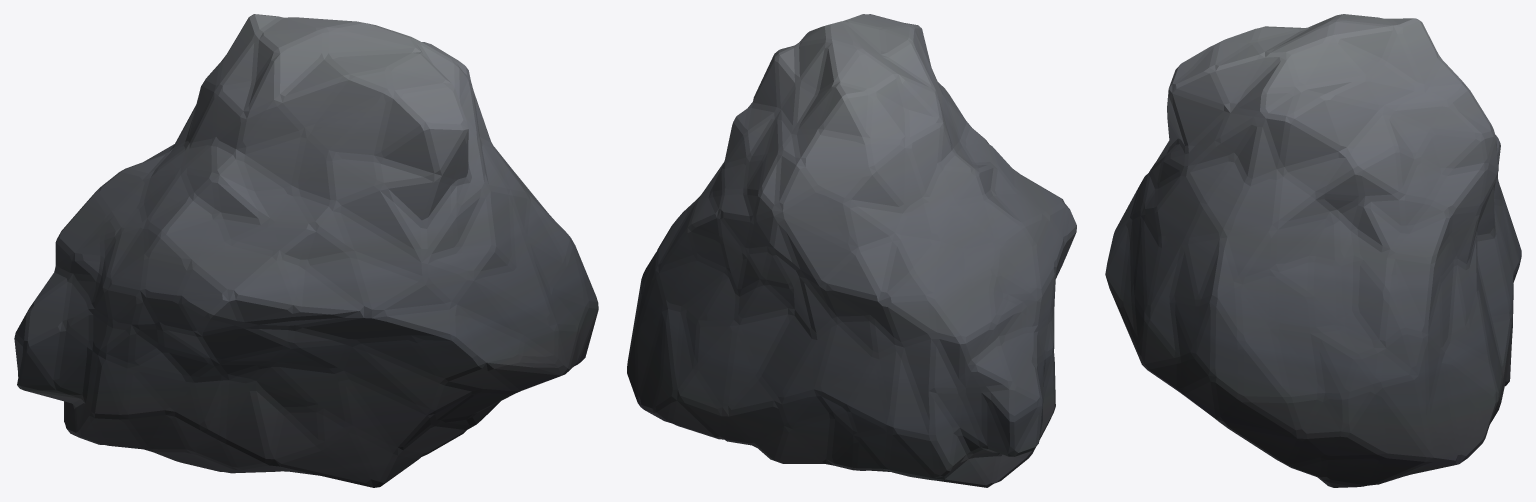
File: IronResource4.glb
3 views of the same model, side by side, from view 1: azimuth 30°, elevation 25°; view 2: azimuth 150°, elevation 25°; view 3: azimuth 270°, elevation 25° (orthographic). The views are drawn at different scales.
Visible parts, largest first — view 1: IronResource4; view 2: IronResource4; view 3: IronResource4.
Boxes of the visible parts, bbox=[...] form: IronResource4: bbox=[14, 14, 598, 487]; IronResource4: bbox=[627, 14, 1076, 487]; IronResource4: bbox=[1105, 14, 1521, 487].
Bounding box in the file's own units: 0.559 × 0.4555 × 0.4471.
1 material, 1 textured.
